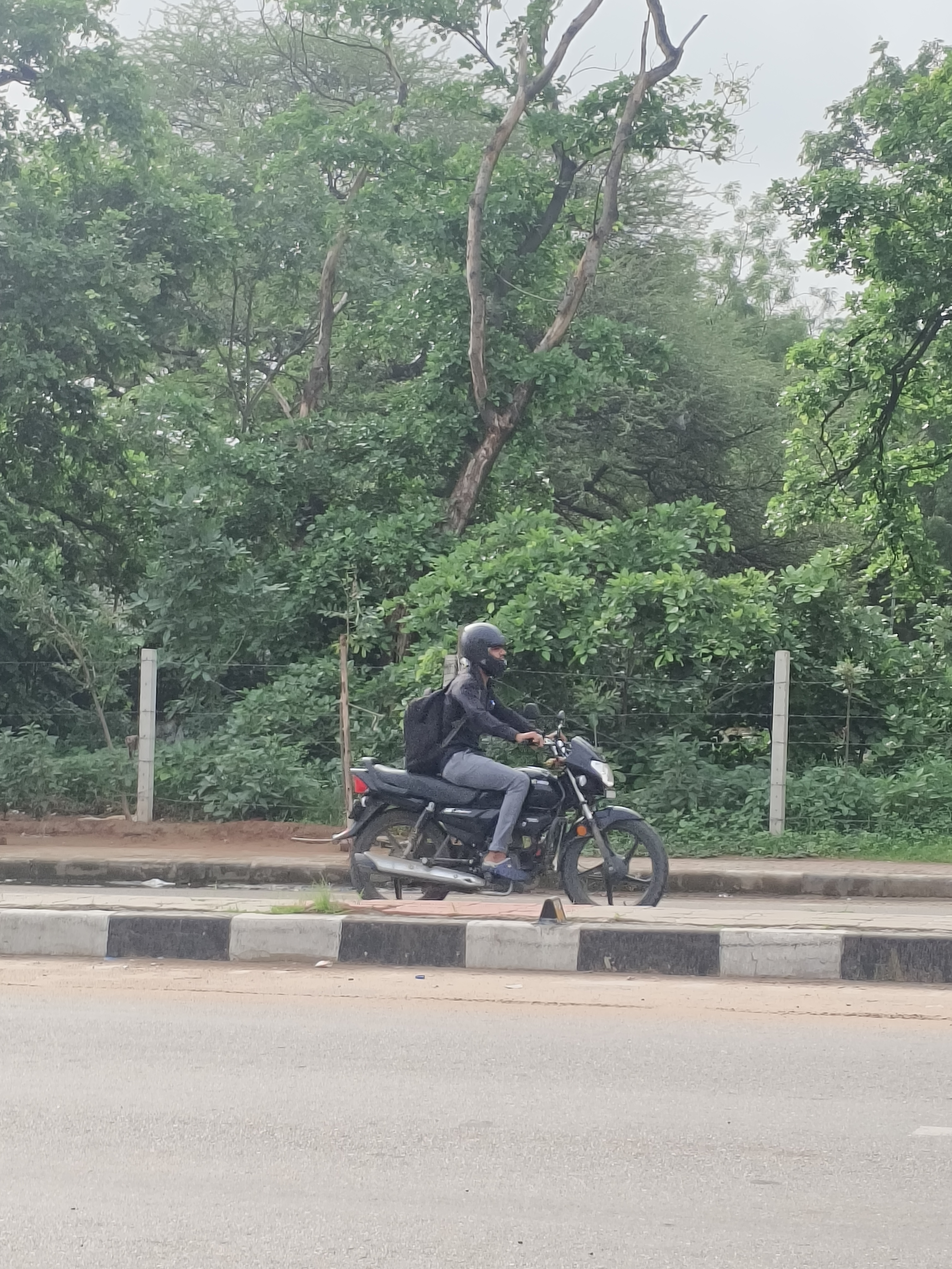BikeWithRider: (320, 611, 681, 923)
Helmet: (451, 611, 519, 684)
